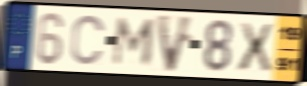6: (34, 10, 65, 67)
8: (203, 18, 235, 74)
C: (69, 13, 107, 67)
M: (110, 15, 159, 68)
V: (154, 12, 197, 75)
X: (236, 20, 275, 73)
